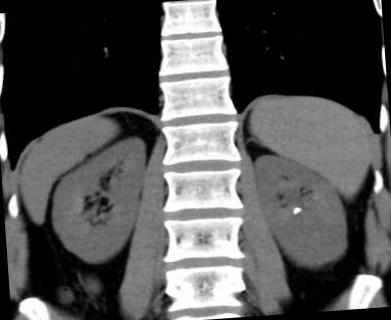Tas_Var: (289, 205, 302, 217)
